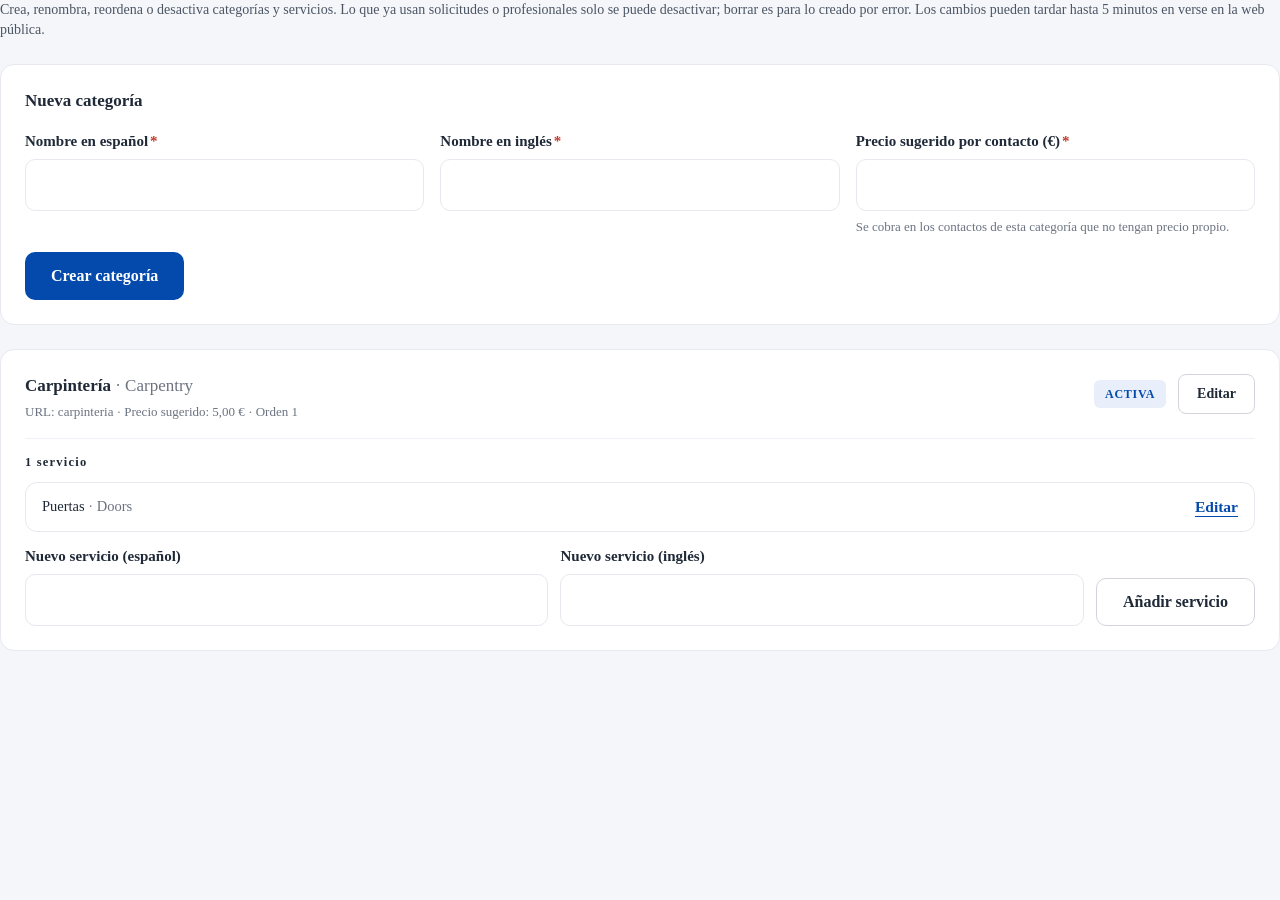
Test case: AdminCatalog › removes a deleted service from the list
The image size is (1280, 900).
Expected: the heading "Carpintería · Carpentry" is shown, [25,376,193,395]
Click the button with aria-label "Editar «Puertas»" at (1216, 507), box [1195,495,1238,519]
(page scrolled)
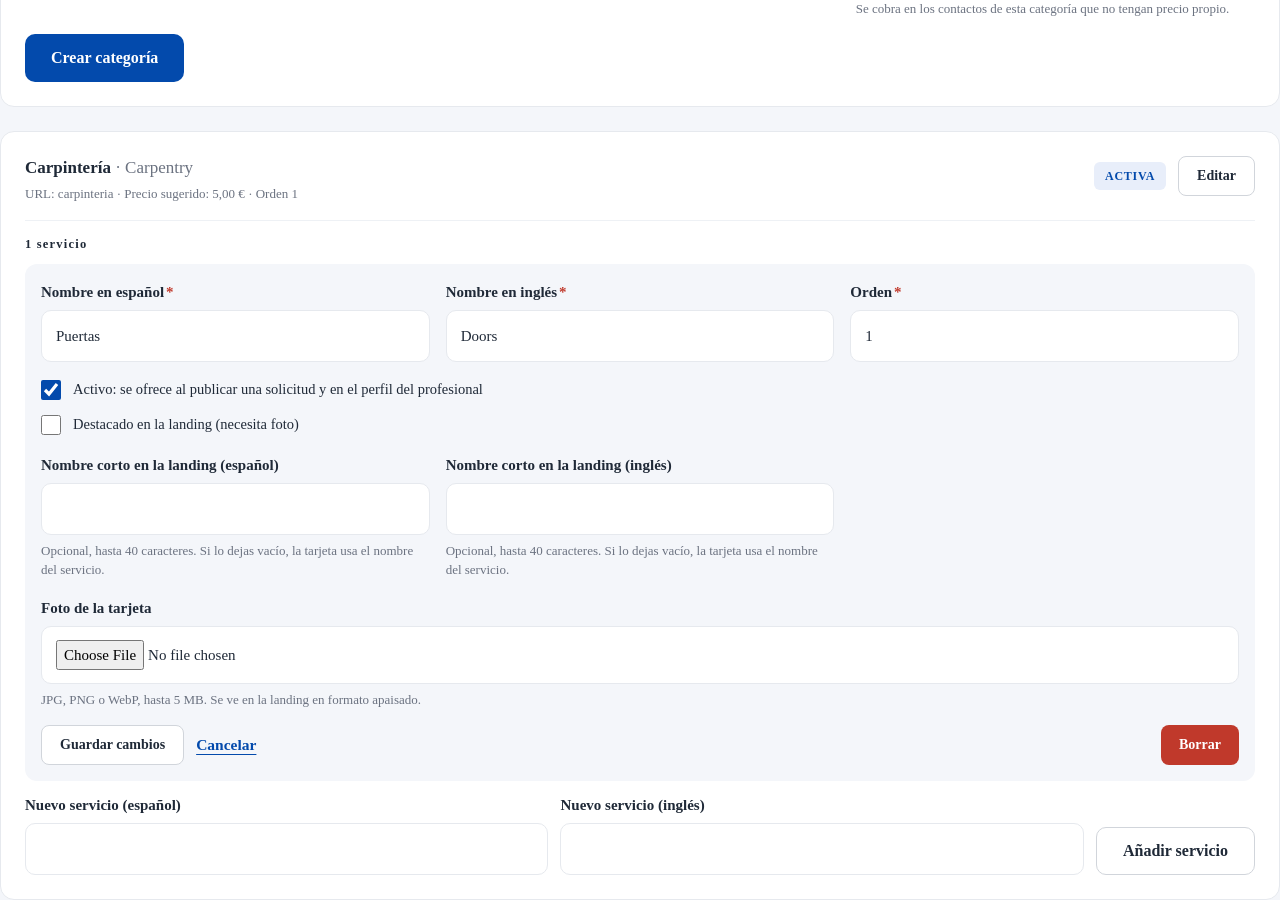
Click the button "Borrar" at (1200, 745), box [1161,725,1239,765]
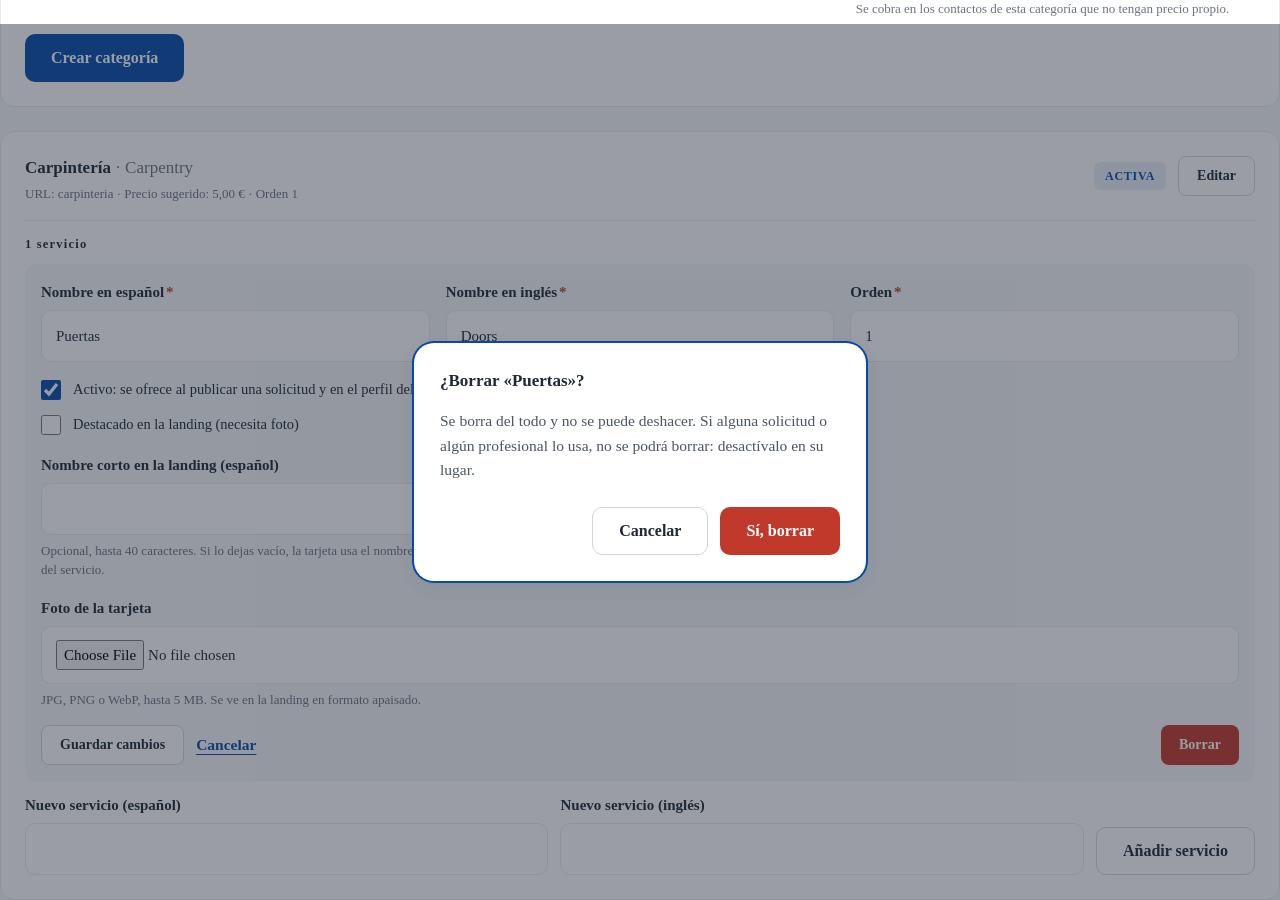
Click the button "Sí, borrar" at (780, 531), box [720,507,840,555]
(page scrolled)
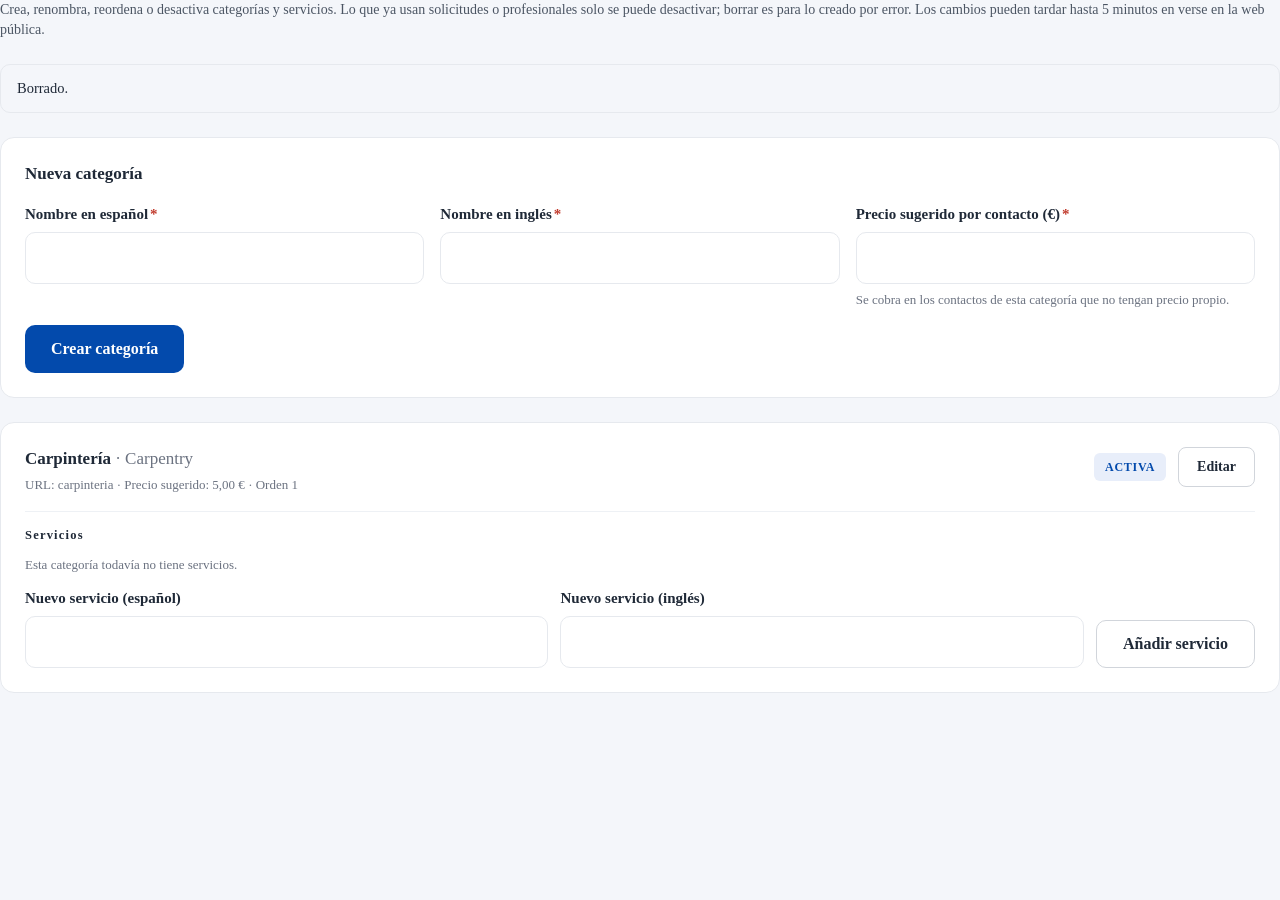
Expected: the heading "Puertas" is gone
